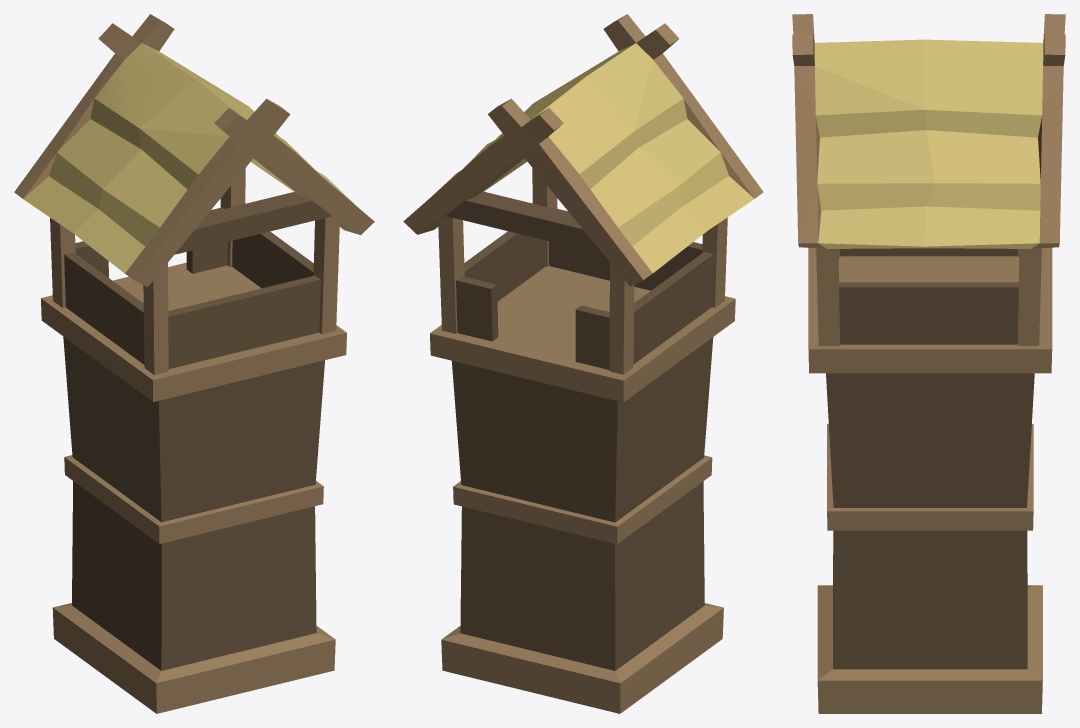
File: Tower_Tiny2.fbx
3 views of the same model, side by side, from view 1: azimuth 30°, elevation 25°; view 2: azimuth 150°, elevation 25°; view 3: azimuth 270°, elevation 25° (orthographic). The views are drawn at different scales.
Visible parts, largest first — view 1: SM_Bld_Viking_Tower_01; view 2: SM_Bld_Viking_Tower_01; view 3: SM_Bld_Viking_Tower_01.
Part boxes in pixels (box(x1,y1,x2,y2)): SM_Bld_Viking_Tower_01: box(14, 14, 374, 713); SM_Bld_Viking_Tower_01: box(403, 14, 763, 713); SM_Bld_Viking_Tower_01: box(792, 14, 1065, 713).
Bounding box in the file's own units: 80.64 × 181 × 69.86.
